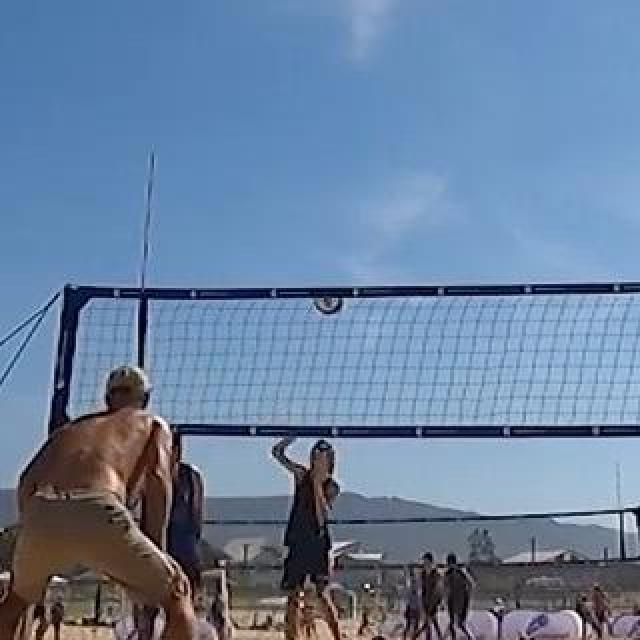volleyball: (313, 286, 343, 314)
